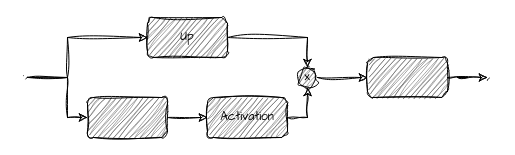
This 515x155 diagram has some shape labels left out. The shapes that lost their labels are listed below. From the top down, each one's centre as x and y in pixels, then its label:
At [407,77]: "Down".
At [127,117]: "Gate".
